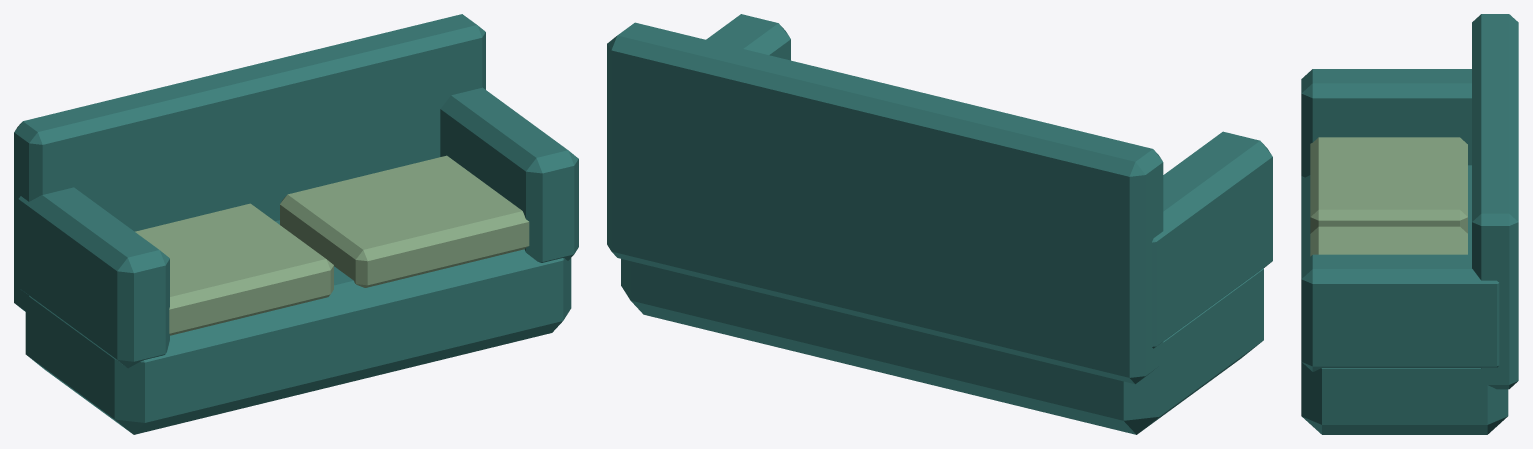
Rendered from Prop_HideoutSofa.fbx.
3 renders of one model, left to right at view 1: azimuth 30°, elevation 25°; view 2: azimuth 150°, elevation 25°; view 3: azimuth 270°, elevation 25°, orthographic. The views are drawn at different scales.
Visible parts, largest first — view 1: Back.001, Base.004, SeatCushion.001, Armrest, SeatCushion, Armrest.001; view 2: Back.001, Base.004, Armrest, Armrest.001; view 3: Armrest.001, Back.001, Base.004, SeatCushion, Armrest, SeatCushion.001.
Boxes of the visible parts, x1,y1,x2,y2 form: Back.001: (14, 14, 485, 311); Base.004: (25, 220, 571, 434); SeatCushion.001: (280, 155, 529, 287); Armrest: (18, 187, 169, 368); SeatCushion: (135, 203, 333, 335); Armrest.001: (440, 87, 578, 262); Back.001: (607, 22, 1163, 384); Base.004: (621, 259, 1263, 434); Armrest: (1152, 131, 1272, 348); Armrest.001: (706, 14, 790, 60); Armrest.001: (1301, 254, 1499, 371); Back.001: (1472, 14, 1518, 389); Base.004: (1301, 165, 1508, 434); SeatCushion: (1310, 137, 1467, 233); Armrest: (1301, 69, 1471, 177); SeatCushion.001: (1310, 226, 1467, 256).
Size of the model in its own units: 1.92 by 0.965 by 0.84.
